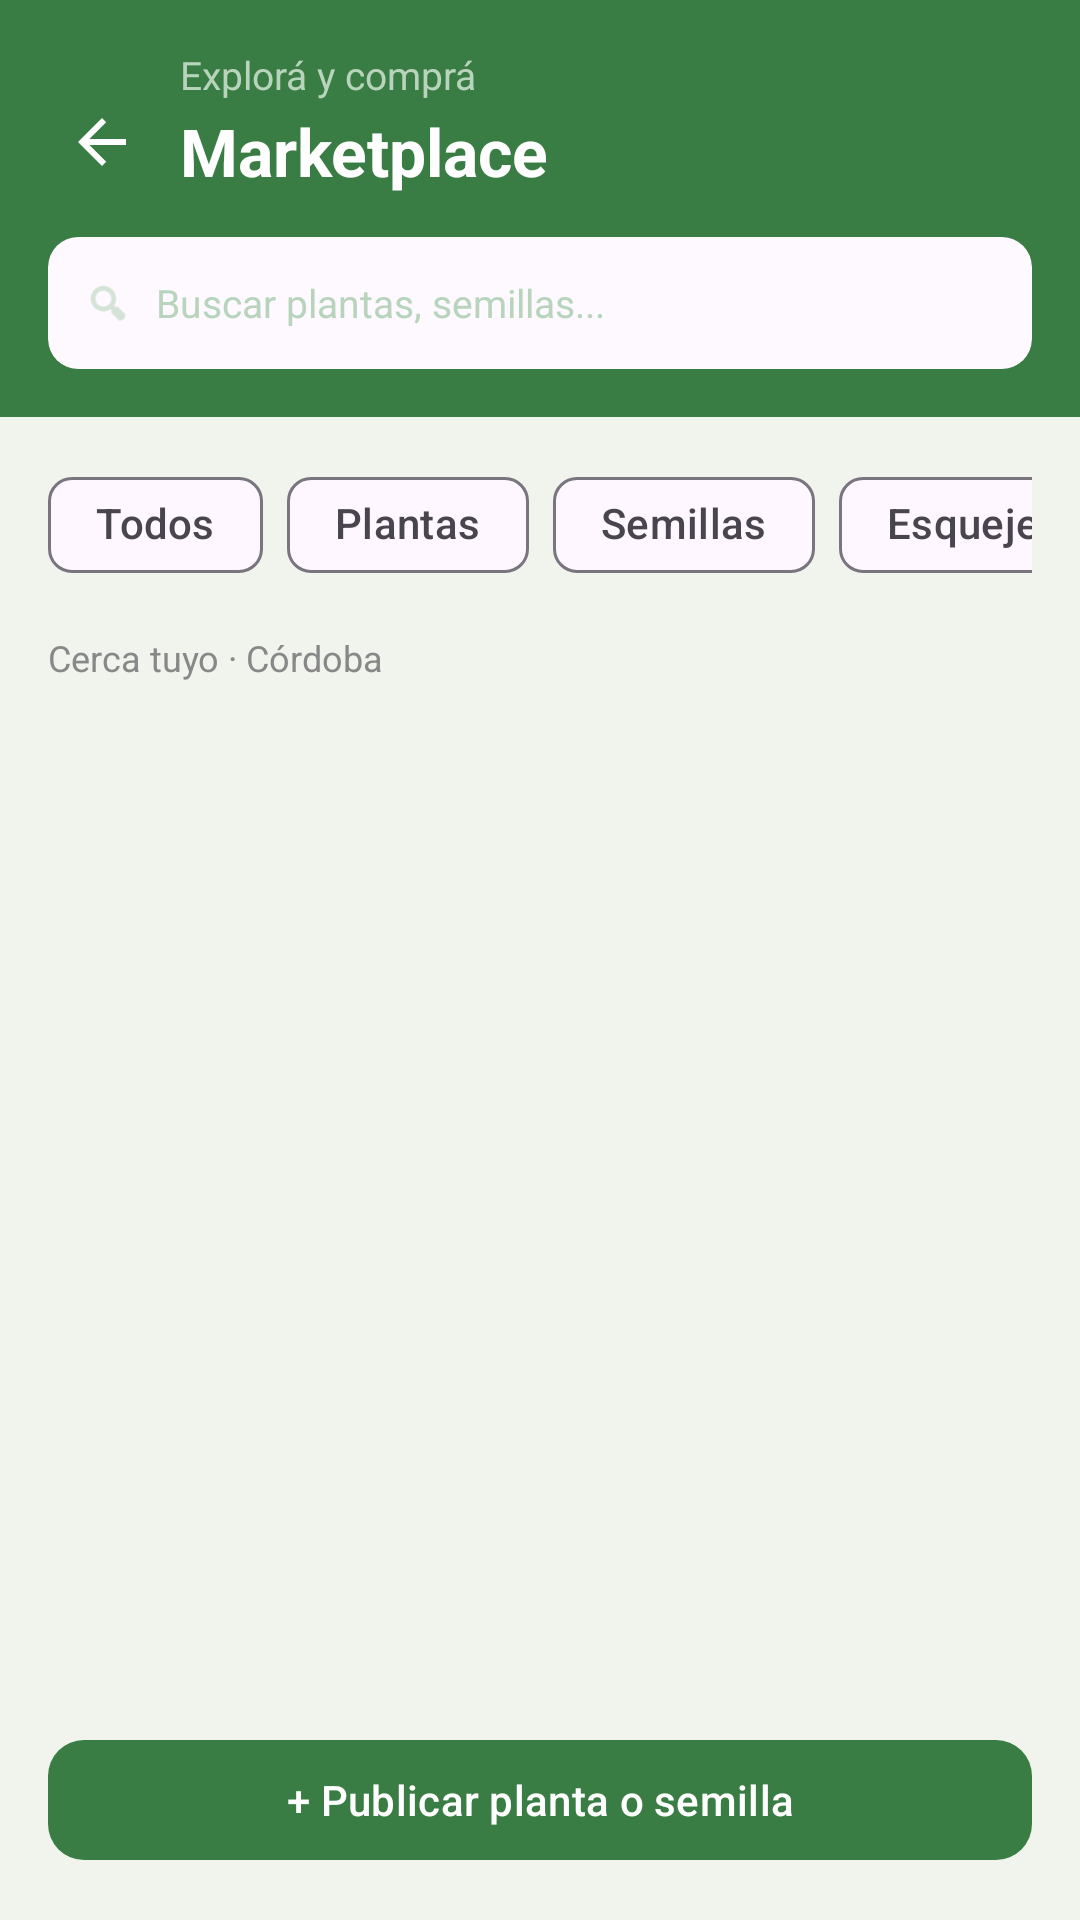

Locate icon controls on the screen. Image size 1080w x 1920h, boxes as (x1, y1, x2, y2).
search: (91, 286, 125, 320)
